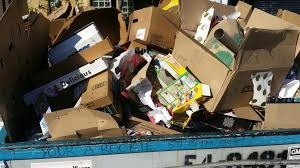paper: (172, 1, 300, 117), (123, 49, 213, 129), (24, 46, 114, 105), (124, 5, 195, 56), (33, 106, 128, 141), (234, 92, 300, 129)
